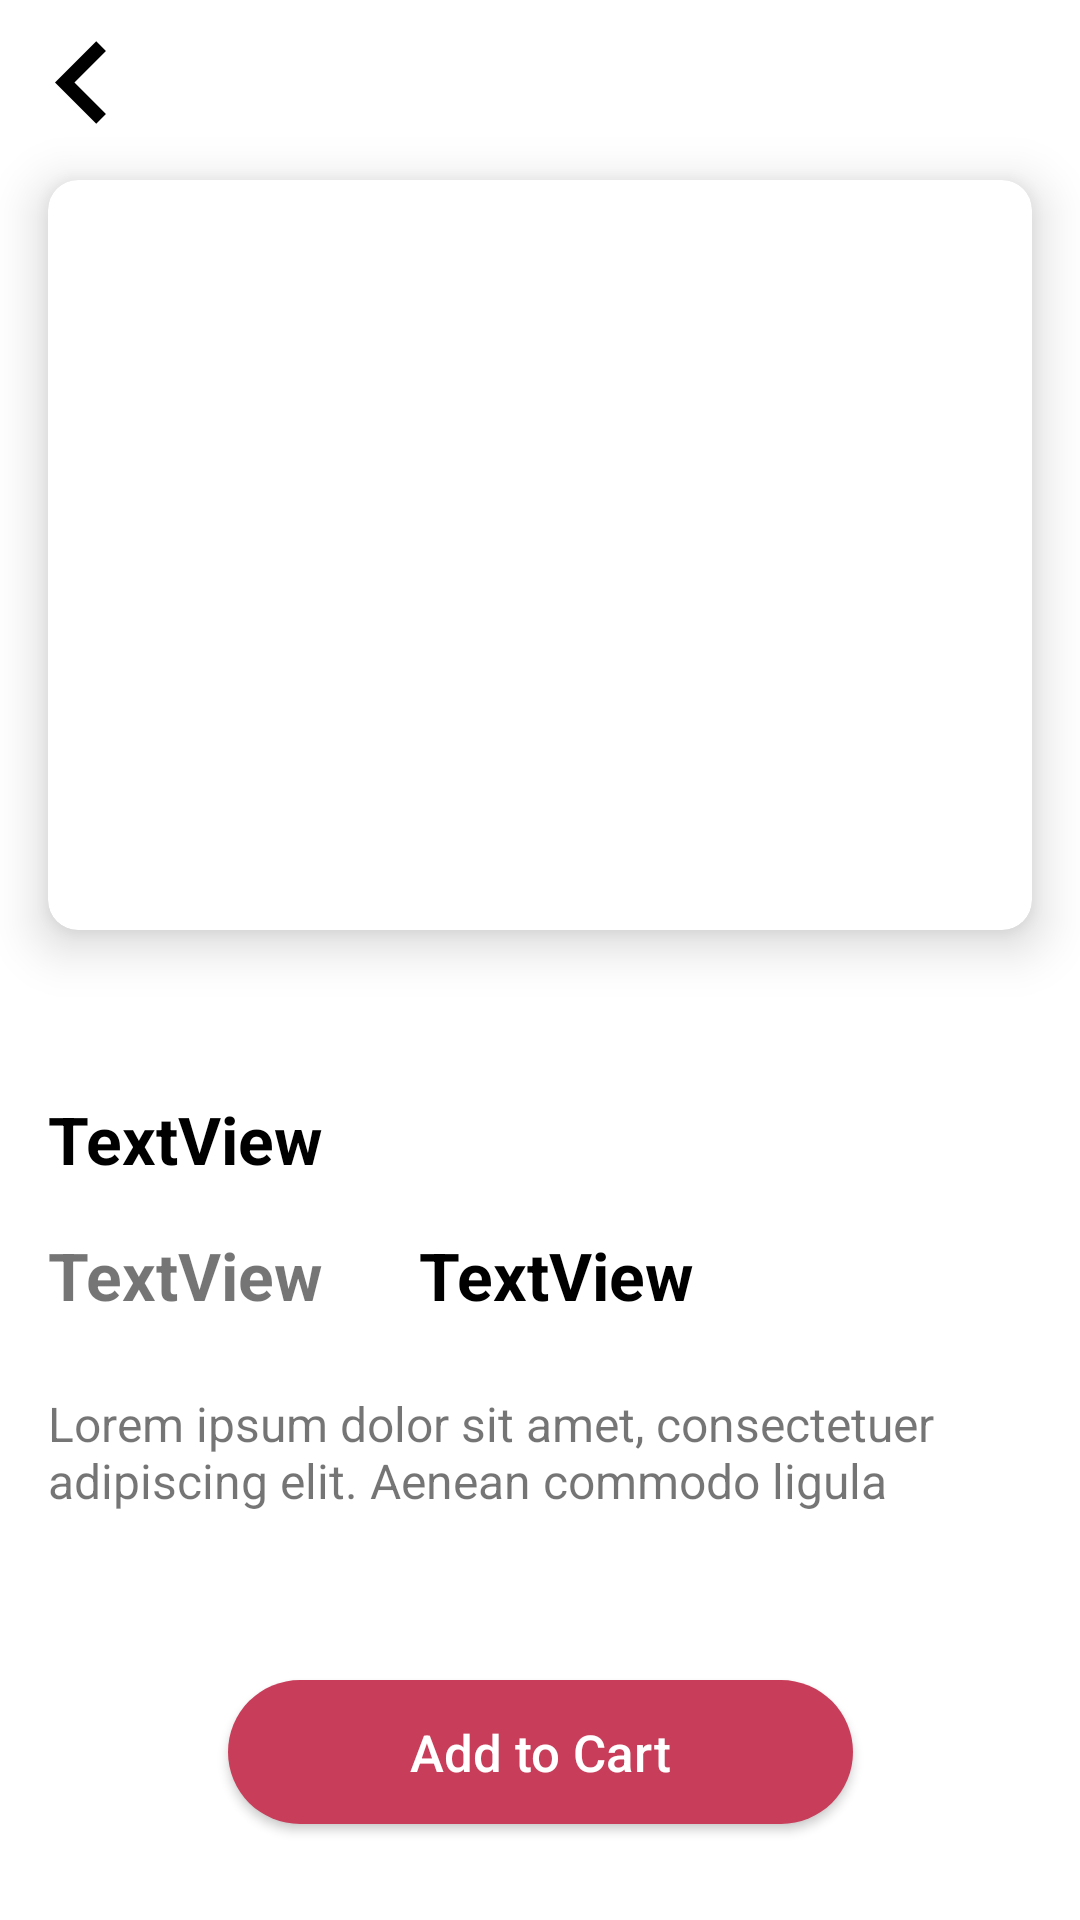

Screen size 1080px×1920px. Icon name, then its box in pixels as (x1, y1, x2, y2):
chevron left: (55, 41, 106, 124)
